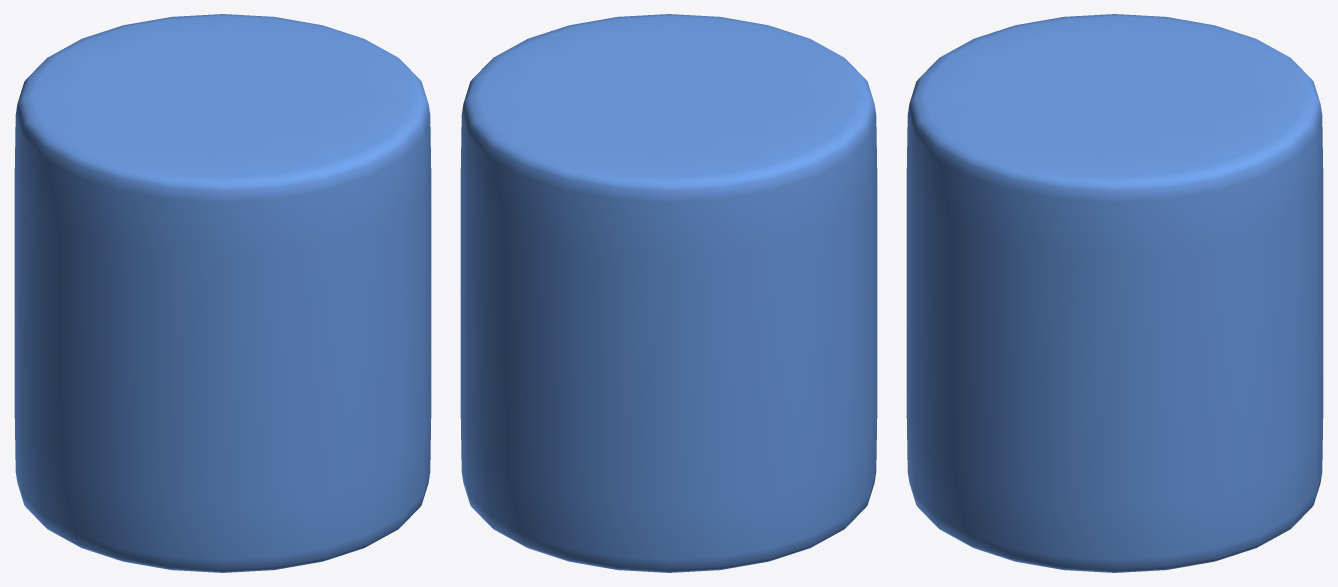
Rendered from block_blue.glb.
3 views of the same model, side by side, from view 1: azimuth 30°, elevation 25°; view 2: azimuth 150°, elevation 25°; view 3: azimuth 270°, elevation 25° (orthographic).
Visible parts, largest first — view 1: block_blue; view 2: block_blue; view 3: block_blue.
Part boxes in pixels (x1=…): block_blue: x1=14, y1=14, x2=431, y2=572; block_blue: x1=460, y1=14, x2=877, y2=572; block_blue: x1=906, y1=14, x2=1323, y2=572.
Bounding box in the file's own units: 0.382 × 0.3998 × 0.382.
